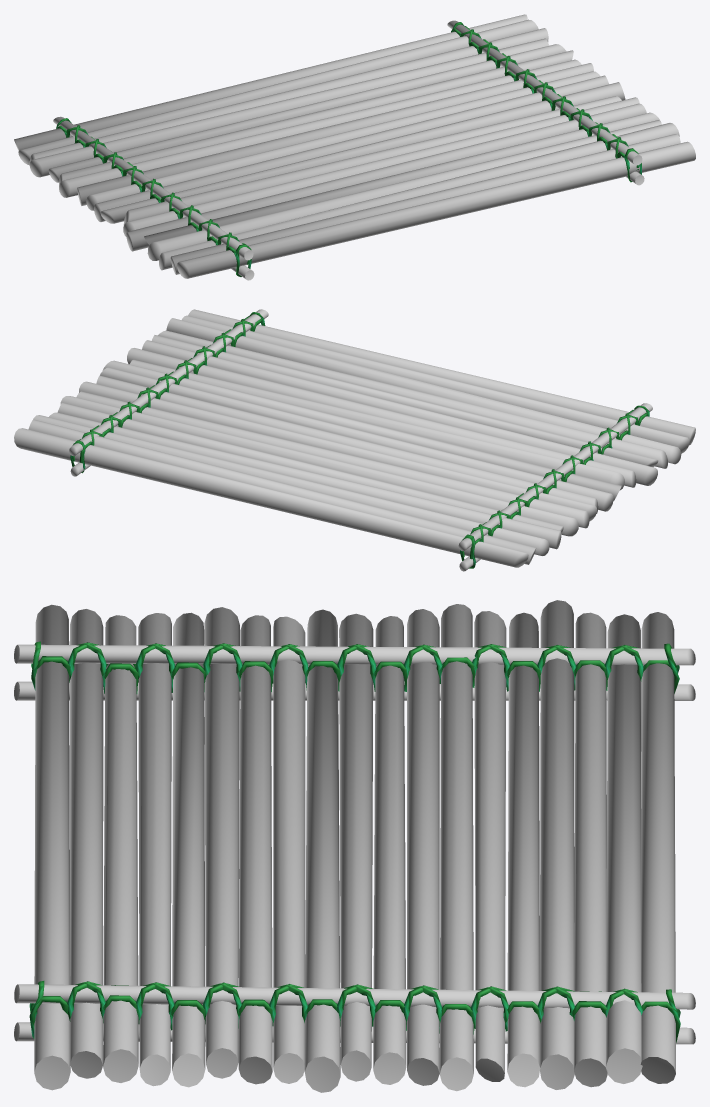
Rendered from NewRaft.fbx.
3 renders of one model, top to bottom at view 1: azimuth 30°, elevation 25°; view 2: azimuth 150°, elevation 25°; view 3: azimuth 270°, elevation 25°, orthographic. The views are drawn at different scales.
Parts seen in each view (by area): view 1: raft_07; view 2: raft_07; view 3: raft_07.
Part boxes in pixels (<box>): raft_07: <box>14,14,695,280</box>; raft_07: <box>14,309,695,571</box>; raft_07: <box>14,600,695,1092</box>.
Size of the model in its own units: 19.7 by 1.29 by 12.37.
